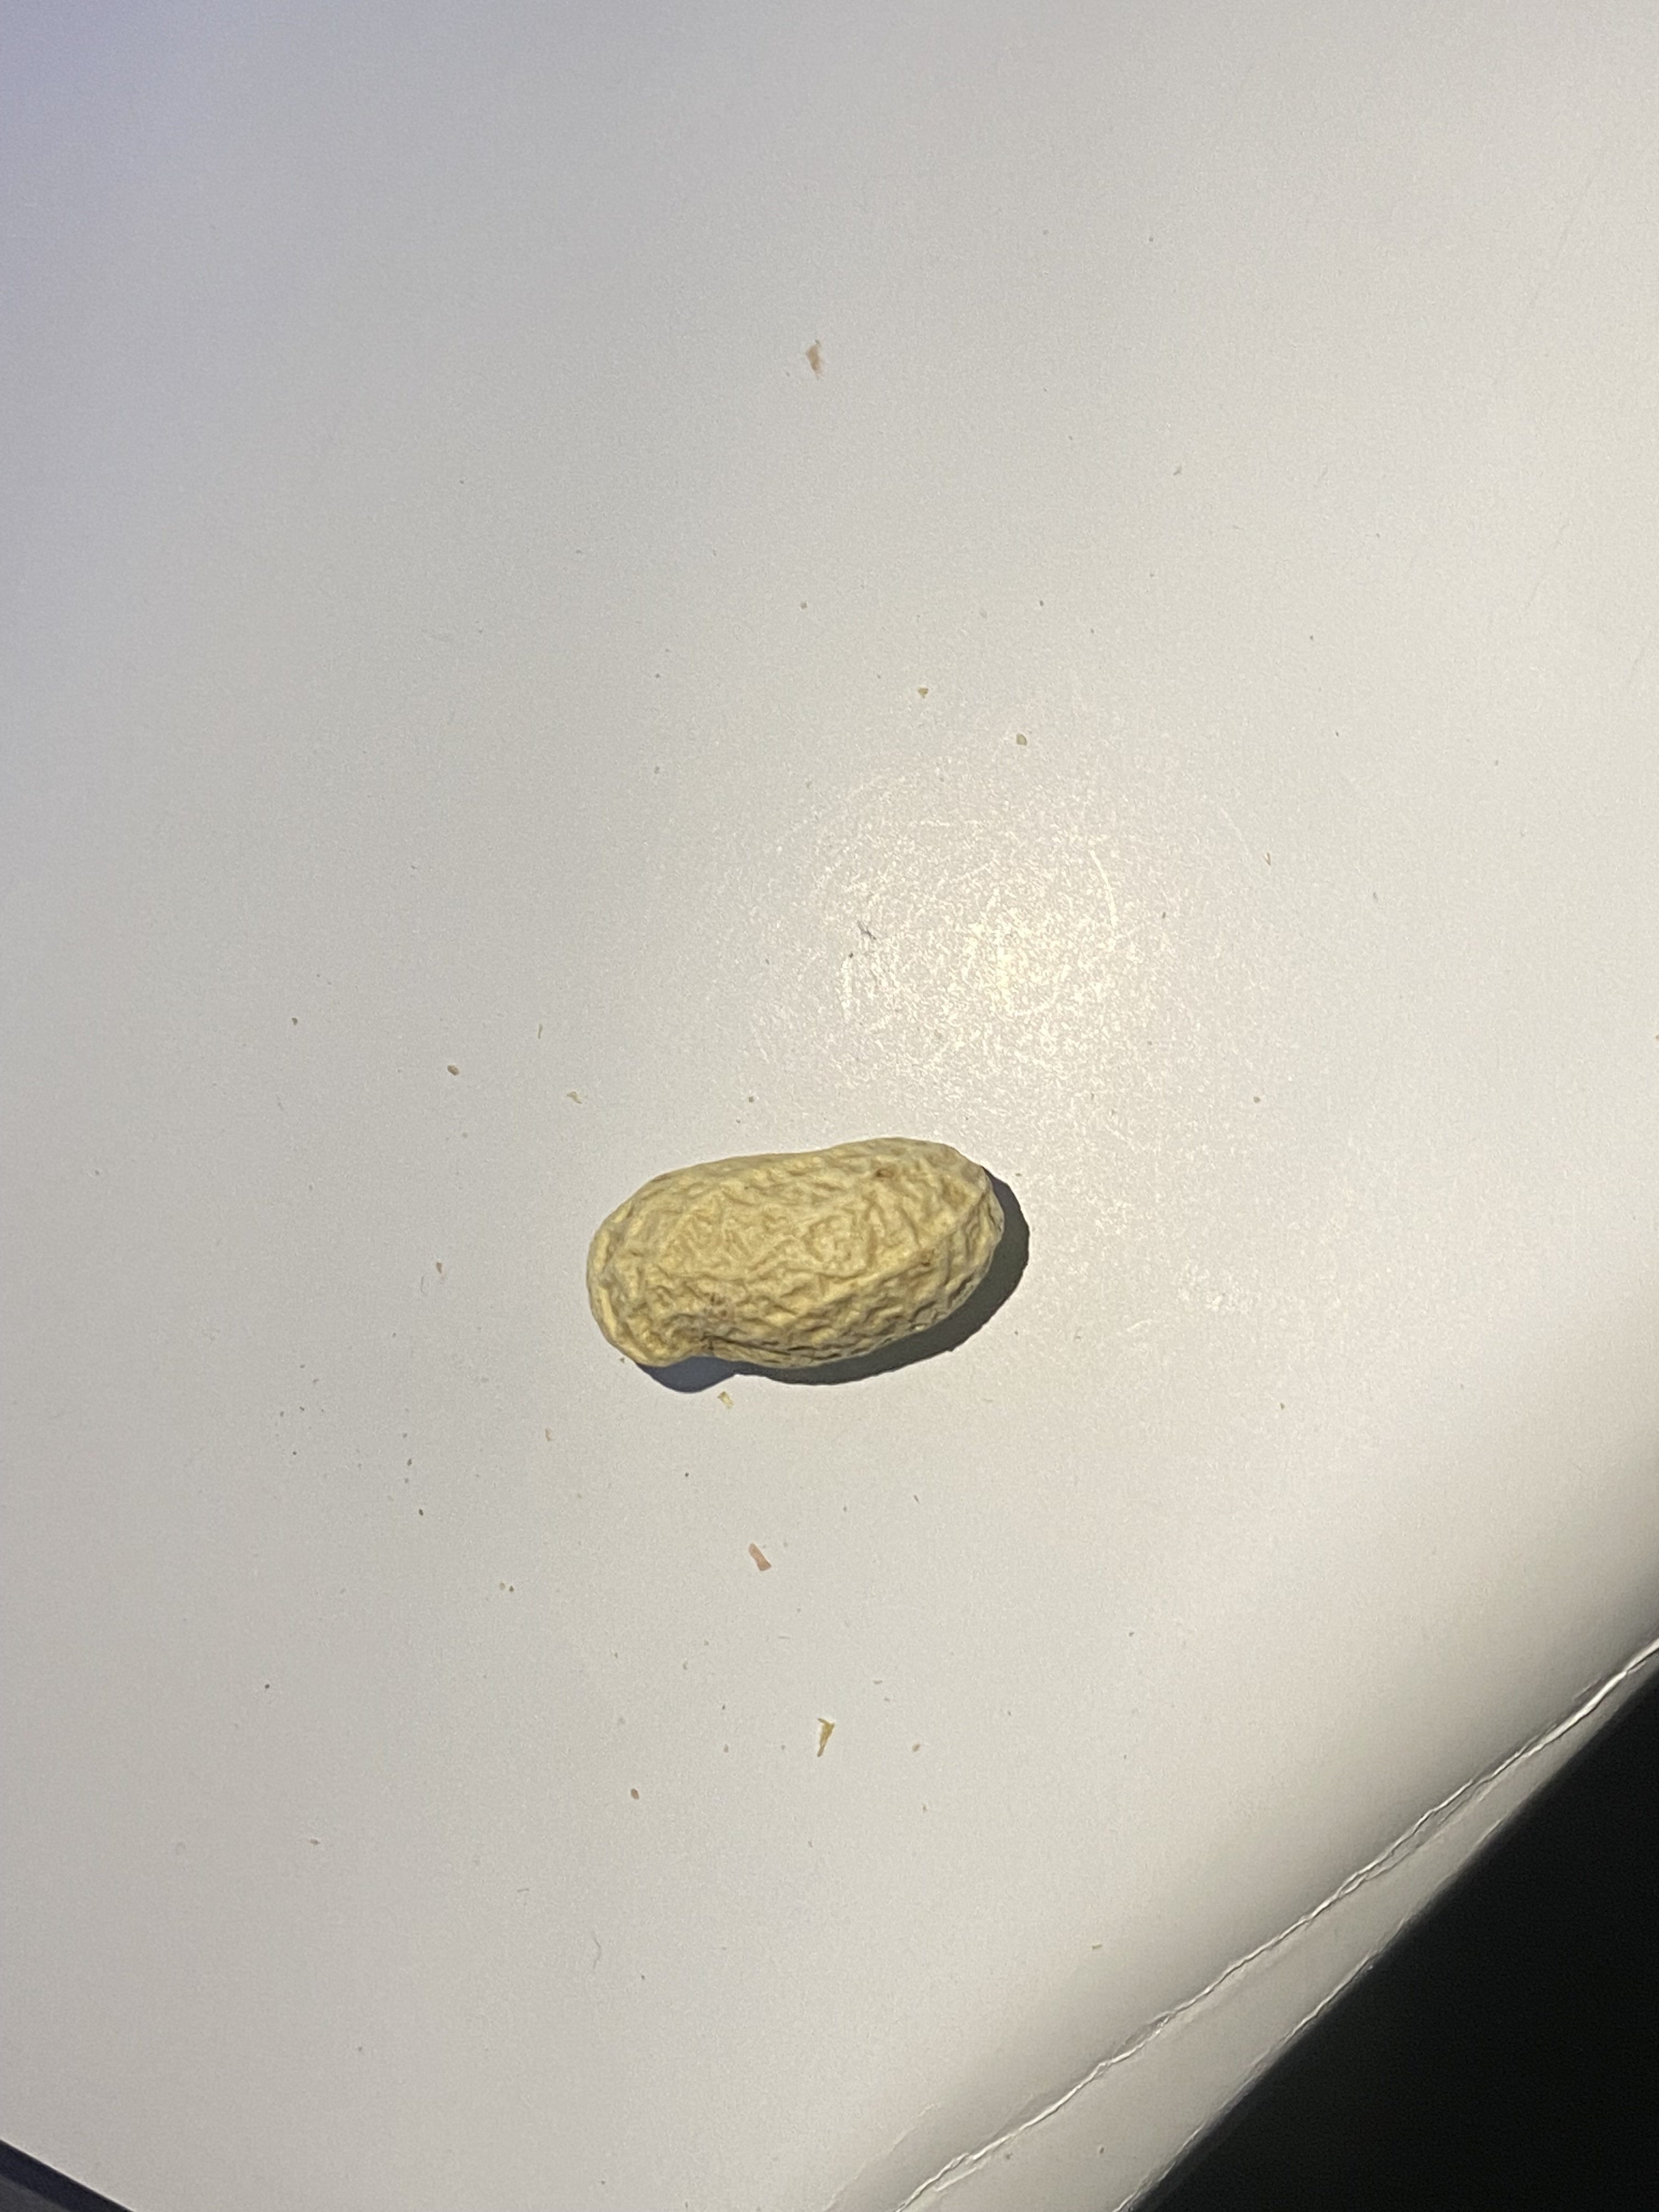kacang1: (584, 1089, 1009, 1393)
